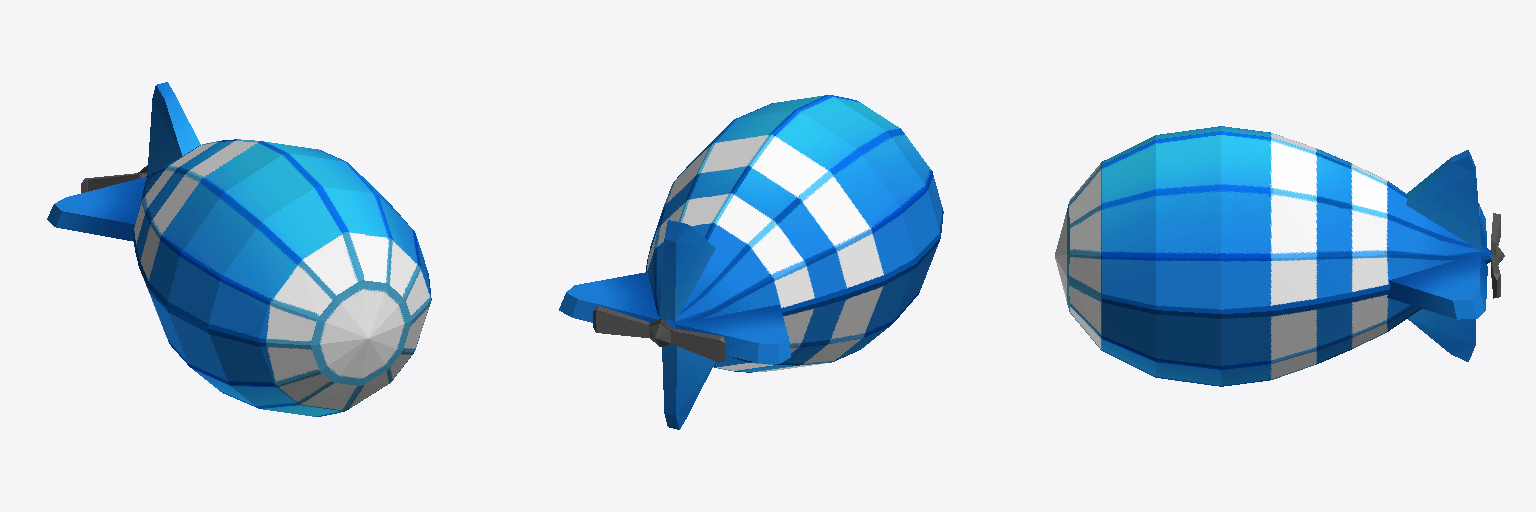
3 renders of one model, left to right at view 1: azimuth 30°, elevation 25°; view 2: azimuth 150°, elevation 25°; view 3: azimuth 270°, elevation 25°, orthographic.
Visible parts, largest first — view 1: Body; view 2: Body; view 3: Body.
Part boxes in pixels (bbox=[...]): Body: bbox=[47, 82, 431, 416]; Body: bbox=[559, 95, 943, 429]; Body: bbox=[1055, 126, 1504, 386].
Bounding box in the file's own units: 32.36 × 32.32 × 53.03.
Materials: 1 (1 with a texture image).